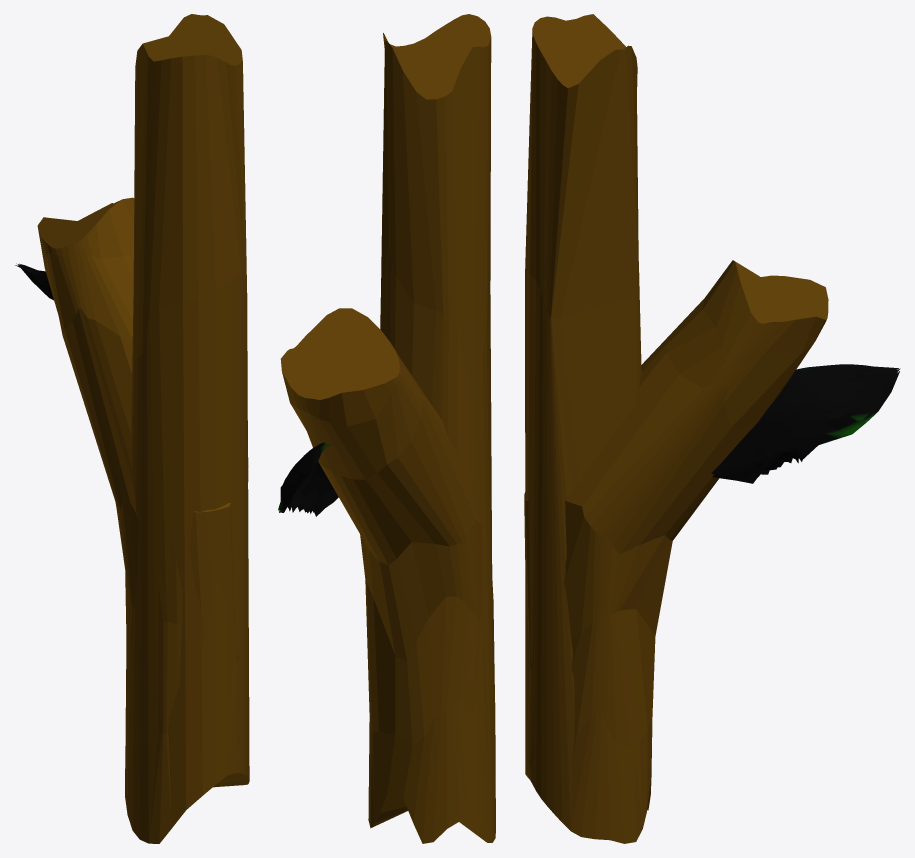
3 views of the same model, side by side, from view 1: azimuth 30°, elevation 25°; view 2: azimuth 150°, elevation 25°; view 3: azimuth 270°, elevation 25° (orthographic).
Visible parts, largest first — view 1: 円柱, 平面; view 2: 円柱, 平面; view 3: 円柱, 平面.
Part boxes in pixels (x1,y1,x2,y2): 円柱: (37,14,249,843); 平面: (15,263,53,300); 円柱: (280,14,495,843); 平面: (278,442,338,516); 円柱: (524,14,828,843); 平面: (711,364,900,483).
Bounding box in the file's own units: 211 × 1373 × 581.
